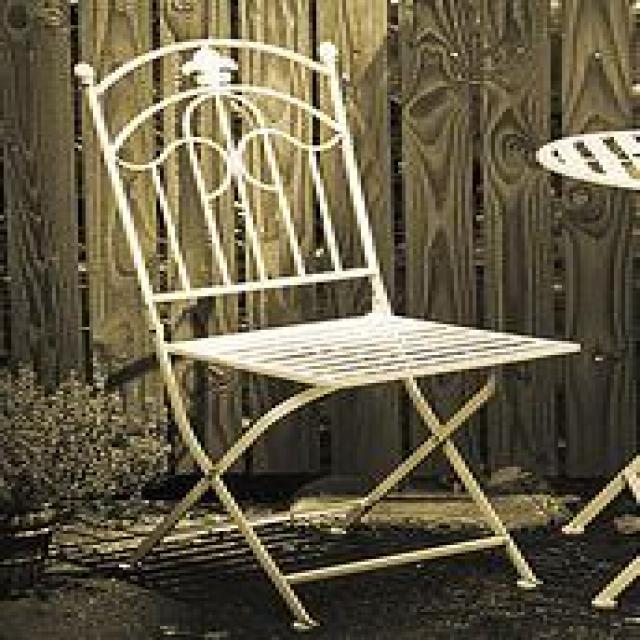chair: (70, 36, 580, 632)
